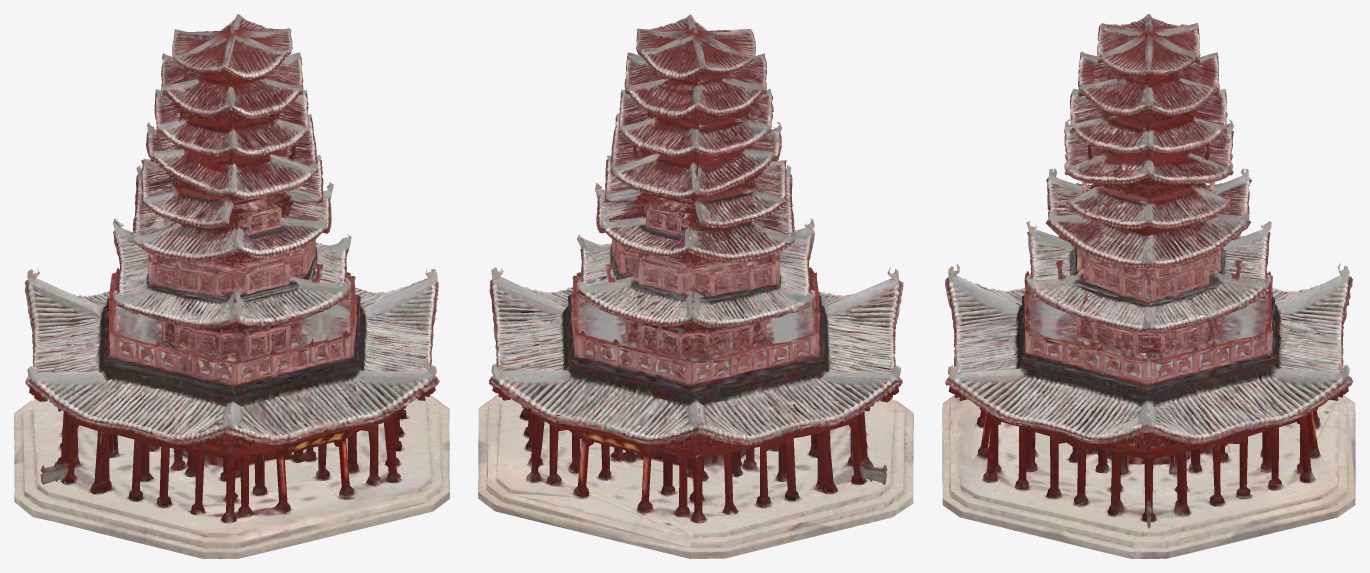
Rendered from lib_pagoda_red.glb.
3 views of the same model, side by side, from view 1: azimuth 30°, elevation 25°; view 2: azimuth 150°, elevation 25°; view 3: azimuth 270°, elevation 25° (orthographic).
Visible parts, largest first — view 1: output_unwrapped; view 2: output_unwrapped; view 3: output_unwrapped.
Part boxes in pixels (box(x1,y1,x2,y2)): output_unwrapped: box(14, 14, 449, 558); output_unwrapped: box(478, 14, 913, 558); output_unwrapped: box(942, 14, 1355, 558).
Bounding box in the file's own units: 2 × 1.99 × 1.72.
Materials: 1 (1 with a texture image).
